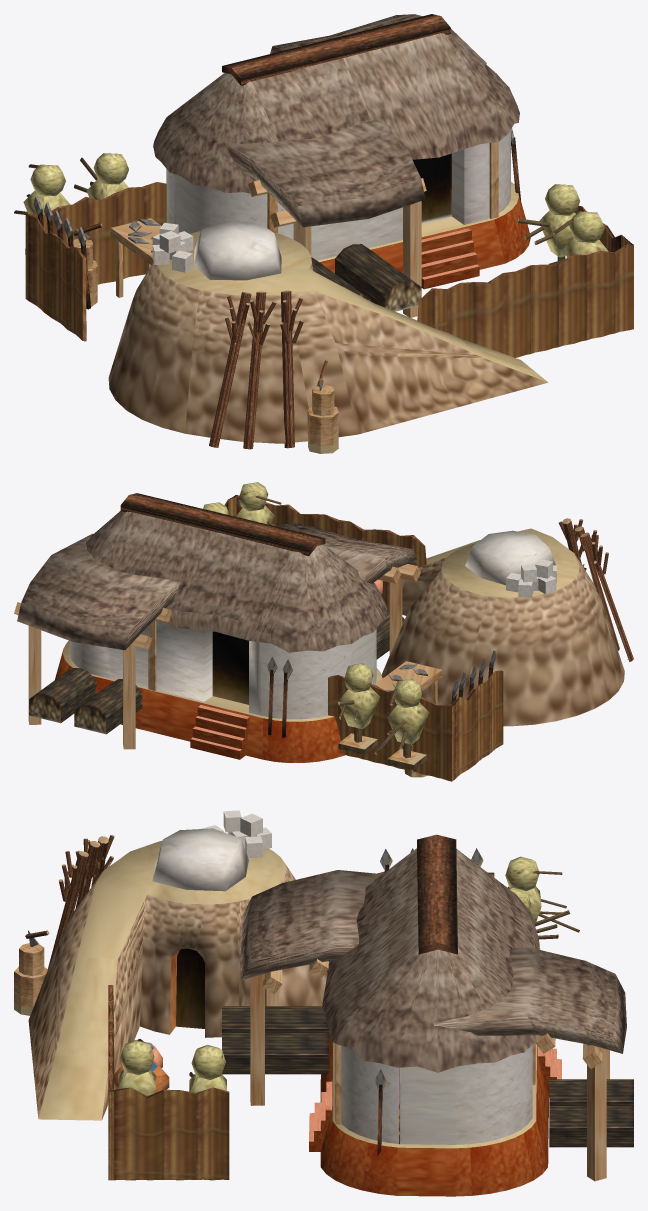
The model's file is forge_2.dae.
3 renders of one model, top to bottom at view 1: azimuth 30°, elevation 25°; view 2: azimuth 150°, elevation 25°; view 3: azimuth 270°, elevation 25°, orthographic. The views are drawn at different scales.
Parts seen in each view (by area): view 1: forja_2; view 2: forja_2; view 3: forja_2.
Part boxes in pixels (bbox=[...]): forja_2: bbox=[14, 14, 633, 453]; forja_2: bbox=[14, 482, 633, 781]; forja_2: bbox=[14, 810, 633, 1196].
Bounding box in the file's own units: 20.25 × 20.98 × 8.44.
Materials: 1 (1 with a texture image).
